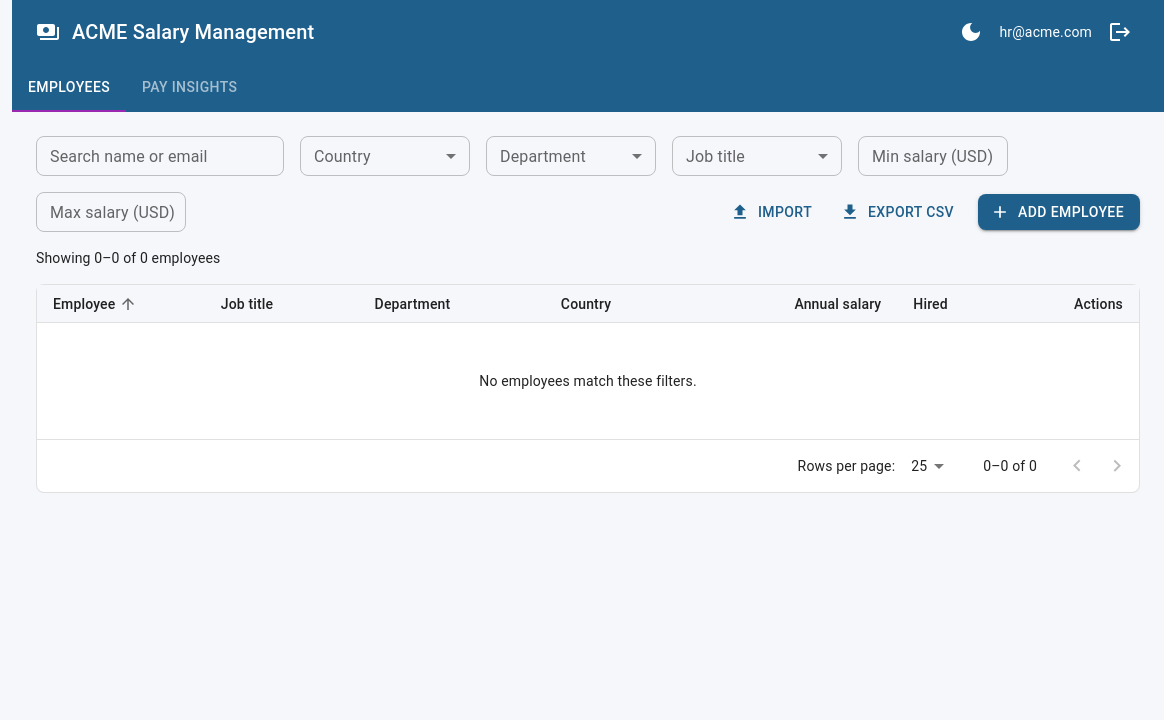
Test: App › signs out
Check: the text "hr@acme.com" is shown, box [999,22,1092,42]
Click the button named "Sign out". click: (1120, 32)
box: [1100,12,1140,52]
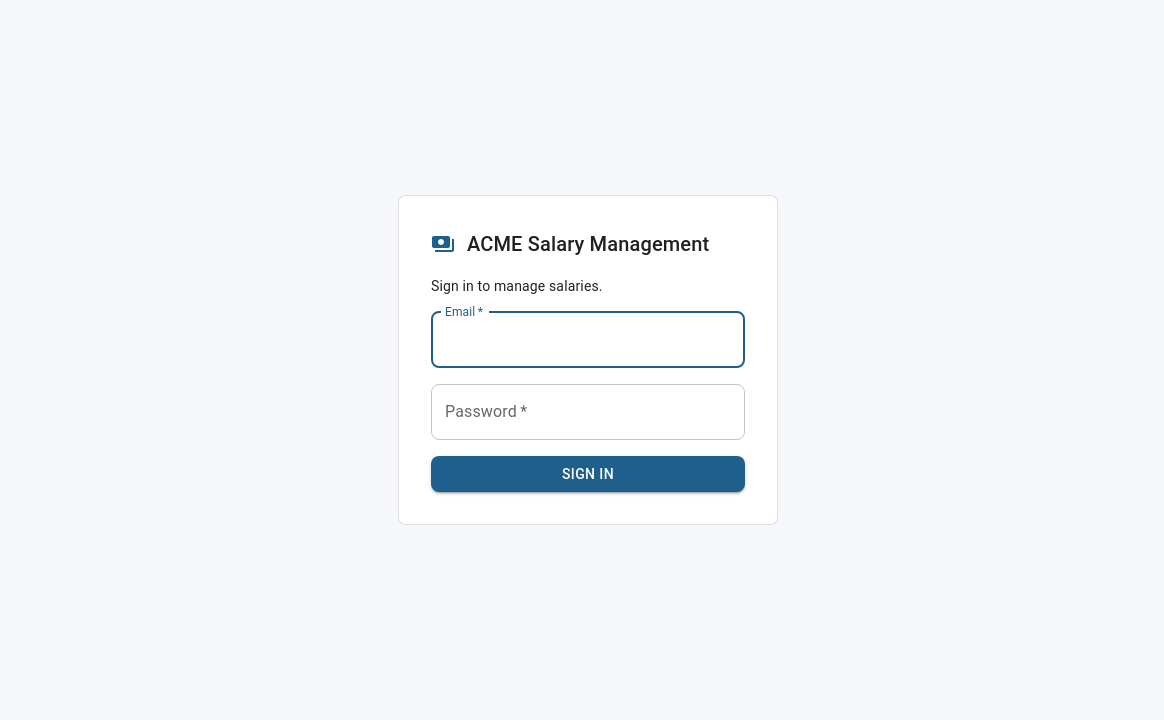
Check: the button "Sign in" is shown, box [431,456,745,492]
